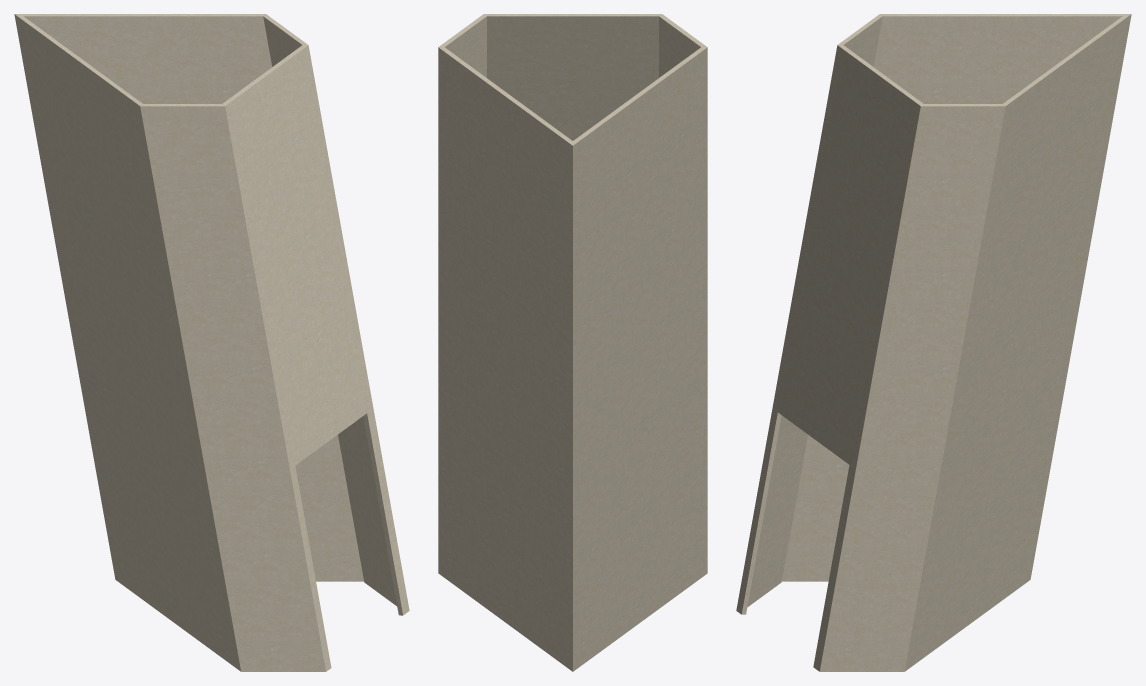
The model's file is EleWall.fbx.
3 views of the same model, side by side, from view 1: azimuth 30°, elevation 25°; view 2: azimuth 150°, elevation 25°; view 3: azimuth 270°, elevation 25° (orthographic). The views are drawn at different scales.
Parts seen in each view (by area): view 1: 物件_1; view 2: 物件_1; view 3: 物件_1.
Boxes of the visible parts, left/top/right/bottom form: 物件_1: left=14, top=14, right=409, bottom=671; 物件_1: left=438, top=14, right=707, bottom=671; 物件_1: left=736, top=14, right=1131, bottom=671.
Bounding box in the file's own units: 5.32 × 11.51 × 7.61.
1 material, 1 textured.
